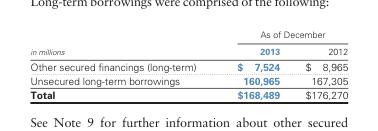table: (29, 28, 347, 100)
table column: (29, 28, 216, 100), (216, 28, 291, 100), (291, 28, 347, 100)
table column header: (29, 28, 347, 58)
table row: (29, 42, 347, 58), (29, 58, 347, 73), (29, 28, 347, 42), (29, 73, 347, 87), (29, 87, 347, 100)
table spanning cell: (29, 28, 216, 58), (216, 28, 347, 42)
